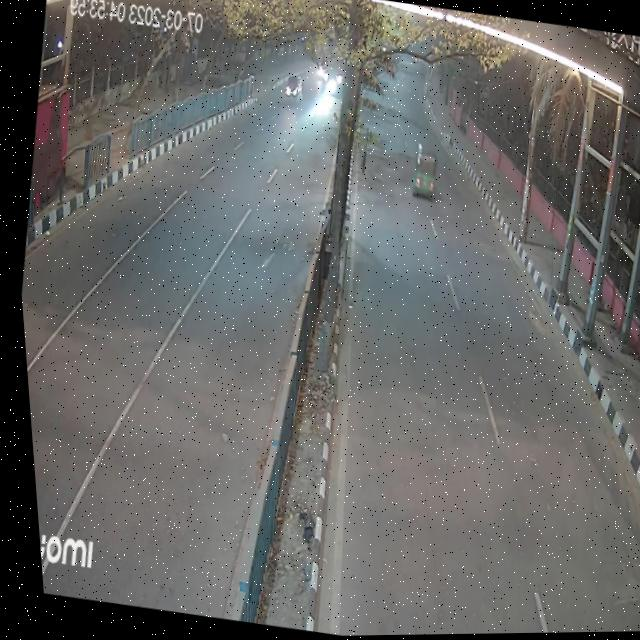cng: (400, 149, 441, 209)
